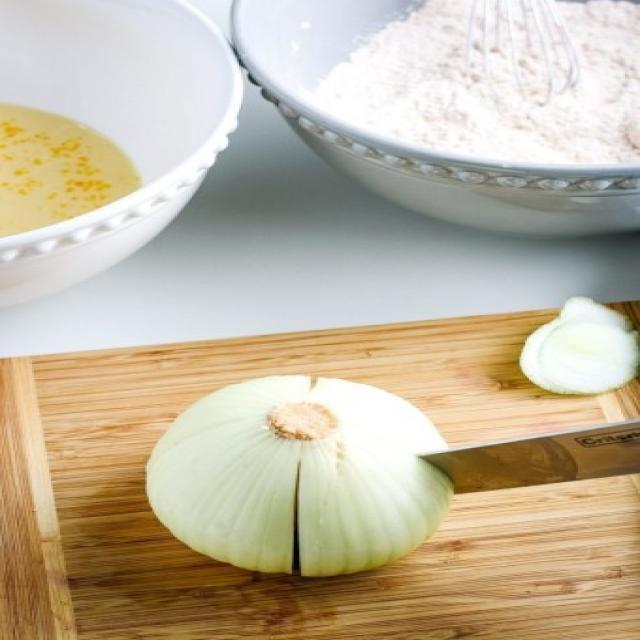Onion: (145, 378, 451, 575)
